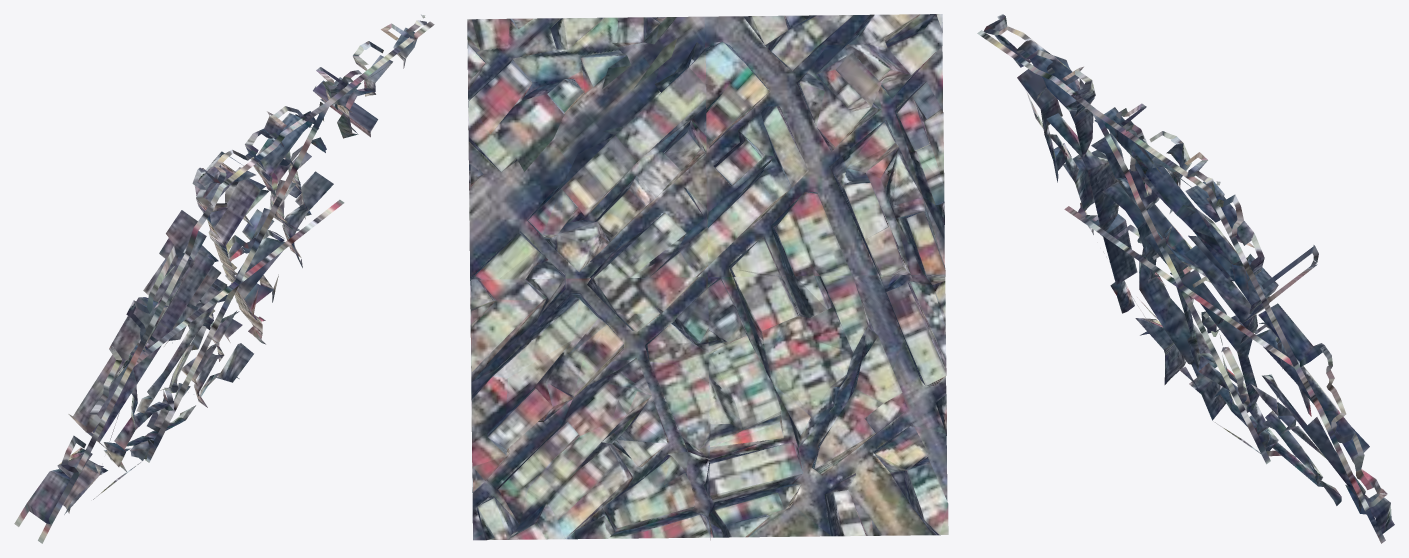
3 views of the same model, side by side, from view 1: azimuth 30°, elevation 25°; view 2: azimuth 150°, elevation 25°; view 3: azimuth 270°, elevation 25° (orthographic). The views are drawn at different scales.
Bounding box in the file's own units: 315 × 286 × 263.
1 material, 1 textured.
